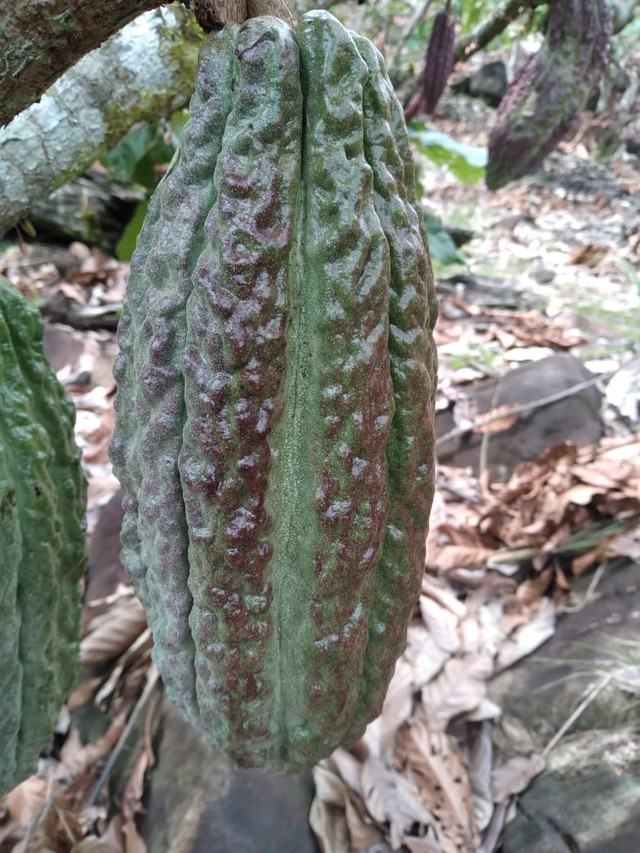Health: (94, 6, 468, 789)
